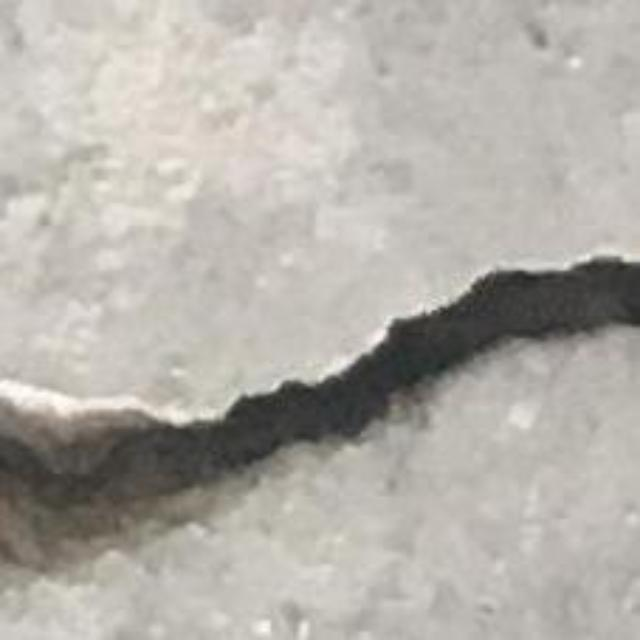crack: (0, 257, 639, 597)
